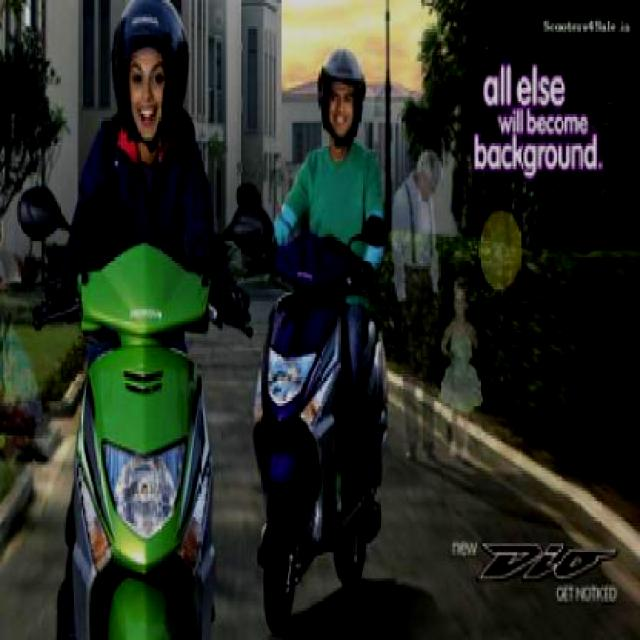With Helmet: (99, 6, 193, 139), (315, 38, 371, 144)
